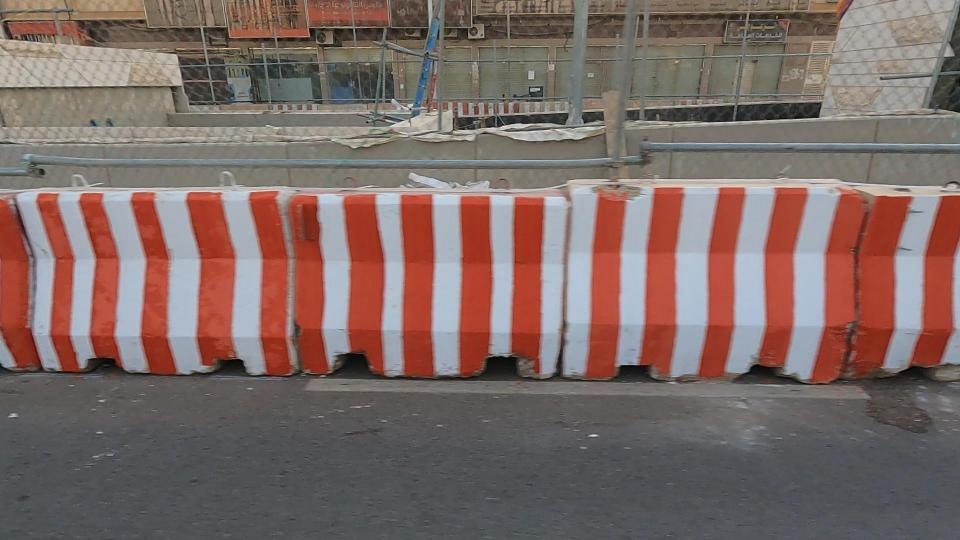CONSTRUCTION_ROAD: (0, 14, 960, 533)
